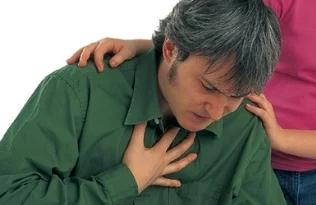pain: (192, 66, 251, 105)
